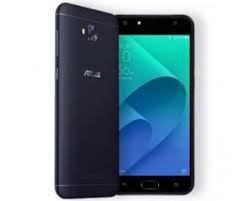asus: (112, 8, 197, 197), (53, 2, 118, 200)
